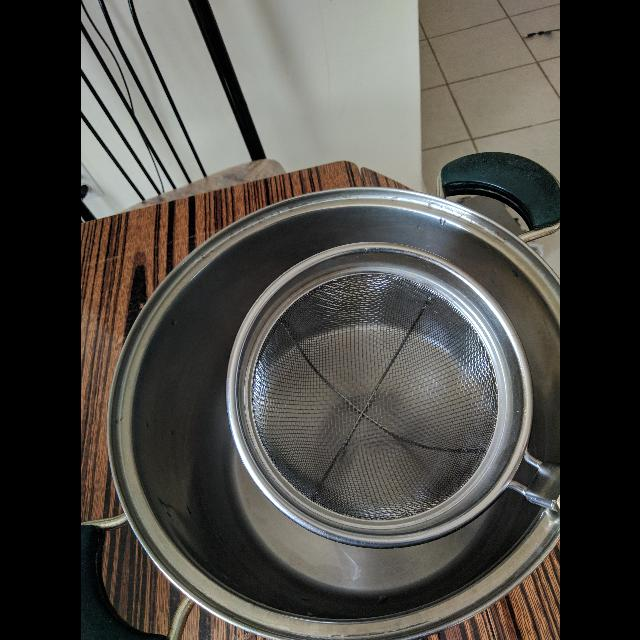Strainer: (225, 243, 540, 546)
